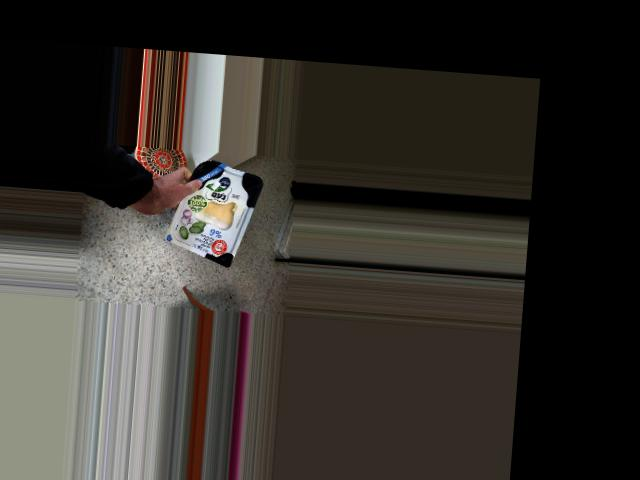cheese: (166, 156, 265, 269)
